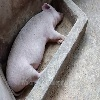heo: (6, 2, 65, 92)
